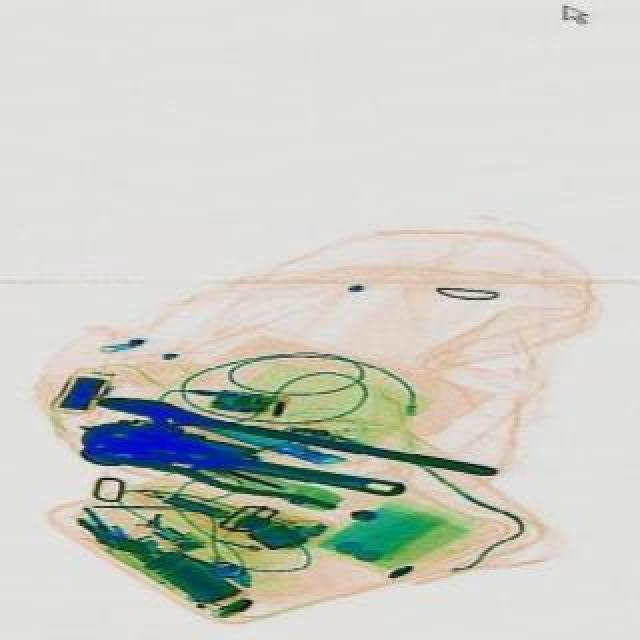scissors: (90, 390, 494, 486)
wrench: (126, 430, 362, 514)
